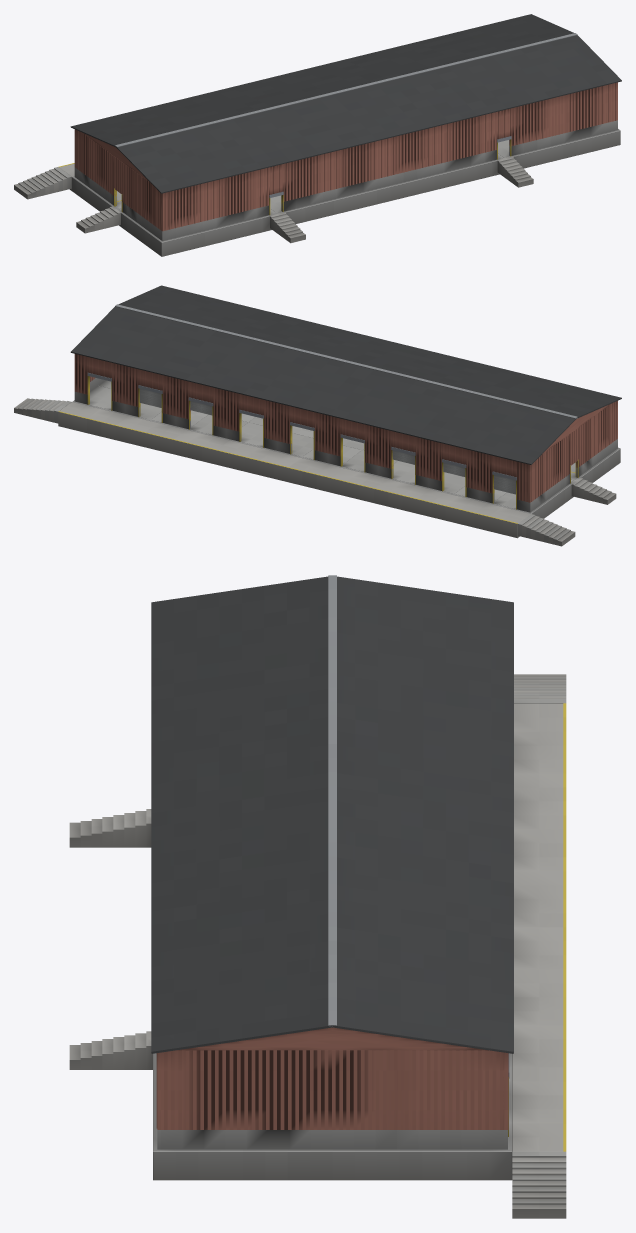
The model's file is shed_c.glb.
The picture shows the model from 3 angles, top to bottom: view 1: azimuth 30°, elevation 25°; view 2: azimuth 150°, elevation 25°; view 3: azimuth 270°, elevation 25°; orthographic projection. The views are drawn at different scales.
Parts seen in each view (by area): view 1: shed_c_2, shed_c_1, shed_c_0; view 2: shed_c_2, shed_c_1, shed_c_0; view 3: shed_c_2, shed_c_1, shed_c_0.
Boxes of the visible parts, x1=… form: shed_c_2: x1=58, y1=14, x2=621, y2=256; shed_c_1: x1=20, y1=41, x2=617, y2=243; shed_c_0: x1=14, y1=33, x2=621, y2=256; shed_c_2: x1=70, y1=285, x2=621, y2=537; shed_c_1: x1=21, y1=288, x2=617, y2=540; shed_c_0: x1=14, y1=293, x2=620, y2=546; shed_c_2: x1=151, y1=575, x2=566, y2=1180; shed_c_1: x1=156, y1=582, x2=566, y2=1218; shed_c_0: x1=69, y1=576, x2=566, y2=1218.
Size of the model in its own units: 86.6 by 11.82 by 34.
